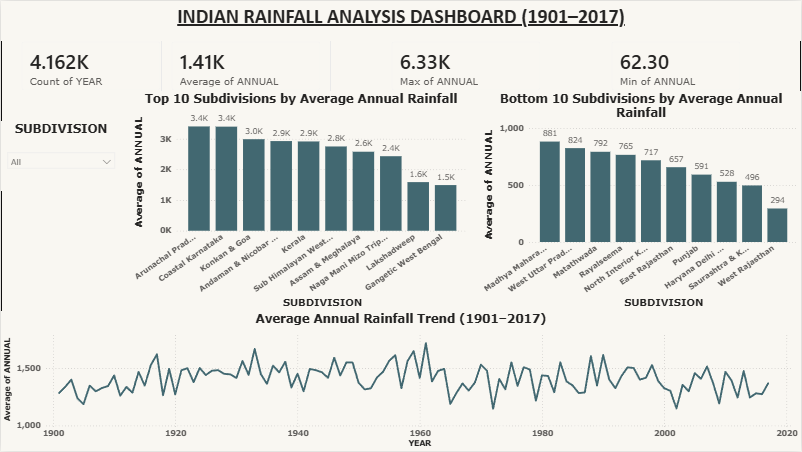

Layout of this report page (visuals, bound fields, positions):
{"tool":"powerbi","page":{"name":"Page 1","canvas":[1280,720],"ordinal":0},"visuals":[{"type":"cardVisual","fields":{"Data":["CountNonNull(cleaned_weather_data.YEAR)"]},"box":[16,48,256,112],"z":0},{"type":"cardVisual","fields":{"Data":["Avg(cleaned_weather_data.ANNUAL)"]},"box":[256,48,272,112],"z":1000},{"type":"cardVisual","fields":{"Data":["Max(cleaned_weather_data.ANNUAL)"]},"box":[608,48,272,112],"z":2000},{"type":"cardVisual","fields":{"Data":["Min(cleaned_weather_data.ANNUAL)"]},"box":[960,48,240,112],"z":3000},{"type":"clusteredColumnChart","title":"Top 10 Subdivisions by Average Annual Rainfall","fields":{"Category":["cleaned_weather_data.SUBDIVISION"],"Y":["Avg(cleaned_weather_data.ANNUAL)"]},"box":[208,144,544,352],"z":4000},{"type":"clusteredColumnChart","title":"Bottom 10 Subdivisions by Average Annual Rainfall","fields":{"Category":["cleaned_weather_data.SUBDIVISION"],"Y":["Avg(cleaned_weather_data.ANNUAL)"]},"box":[768,144,512,352],"z":4001},{"type":"lineChart","title":"Average Annual Rainfall Trend (1901–2017)","fields":{"Category":["cleaned_weather_data.YEAR"],"Y":["Avg(cleaned_weather_data.ANNUAL)"]},"box":[0,496,1280,224],"z":4002},{"type":"slicer","title":"SUBDIVISION","fields":{"Values":["cleaned_weather_data.SUBDIVISION"]},"box":[0,192,192,112],"z":4003},{"type":"textbox","box":[0,0,1280,64],"z":4004}]}

Visuals, with their boxes in screenshot pixels (x1, y1, x2, y2), scaled from the page's 1280x720 canvas onto the 802x452 screenshot:
cardVisual - CountNonNull(cleaned_weather_data.YEAR): pyautogui.locateOnScreen(10, 30, 170, 100)
cardVisual - Avg(cleaned_weather_data.ANNUAL): pyautogui.locateOnScreen(160, 30, 331, 100)
cardVisual - Max(cleaned_weather_data.ANNUAL): pyautogui.locateOnScreen(381, 30, 551, 100)
cardVisual - Min(cleaned_weather_data.ANNUAL): pyautogui.locateOnScreen(602, 30, 752, 100)
"Top 10 Subdivisions by Average Annual Rainfall" clusteredColumnChart: pyautogui.locateOnScreen(130, 90, 471, 311)
"Bottom 10 Subdivisions by Average Annual Rainfall" clusteredColumnChart: pyautogui.locateOnScreen(481, 90, 801, 311)
"Average Annual Rainfall Trend (1901–2017)" lineChart: pyautogui.locateOnScreen(0, 311, 801, 451)
"SUBDIVISION" slicer: pyautogui.locateOnScreen(0, 121, 120, 191)
textbox: pyautogui.locateOnScreen(0, 0, 801, 40)
